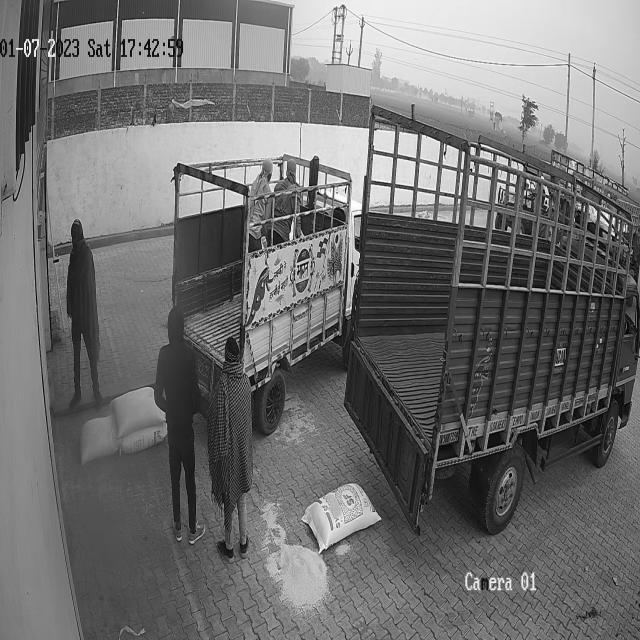sack: (300, 482, 382, 552), (109, 387, 165, 436), (80, 413, 118, 463), (120, 424, 167, 452)
